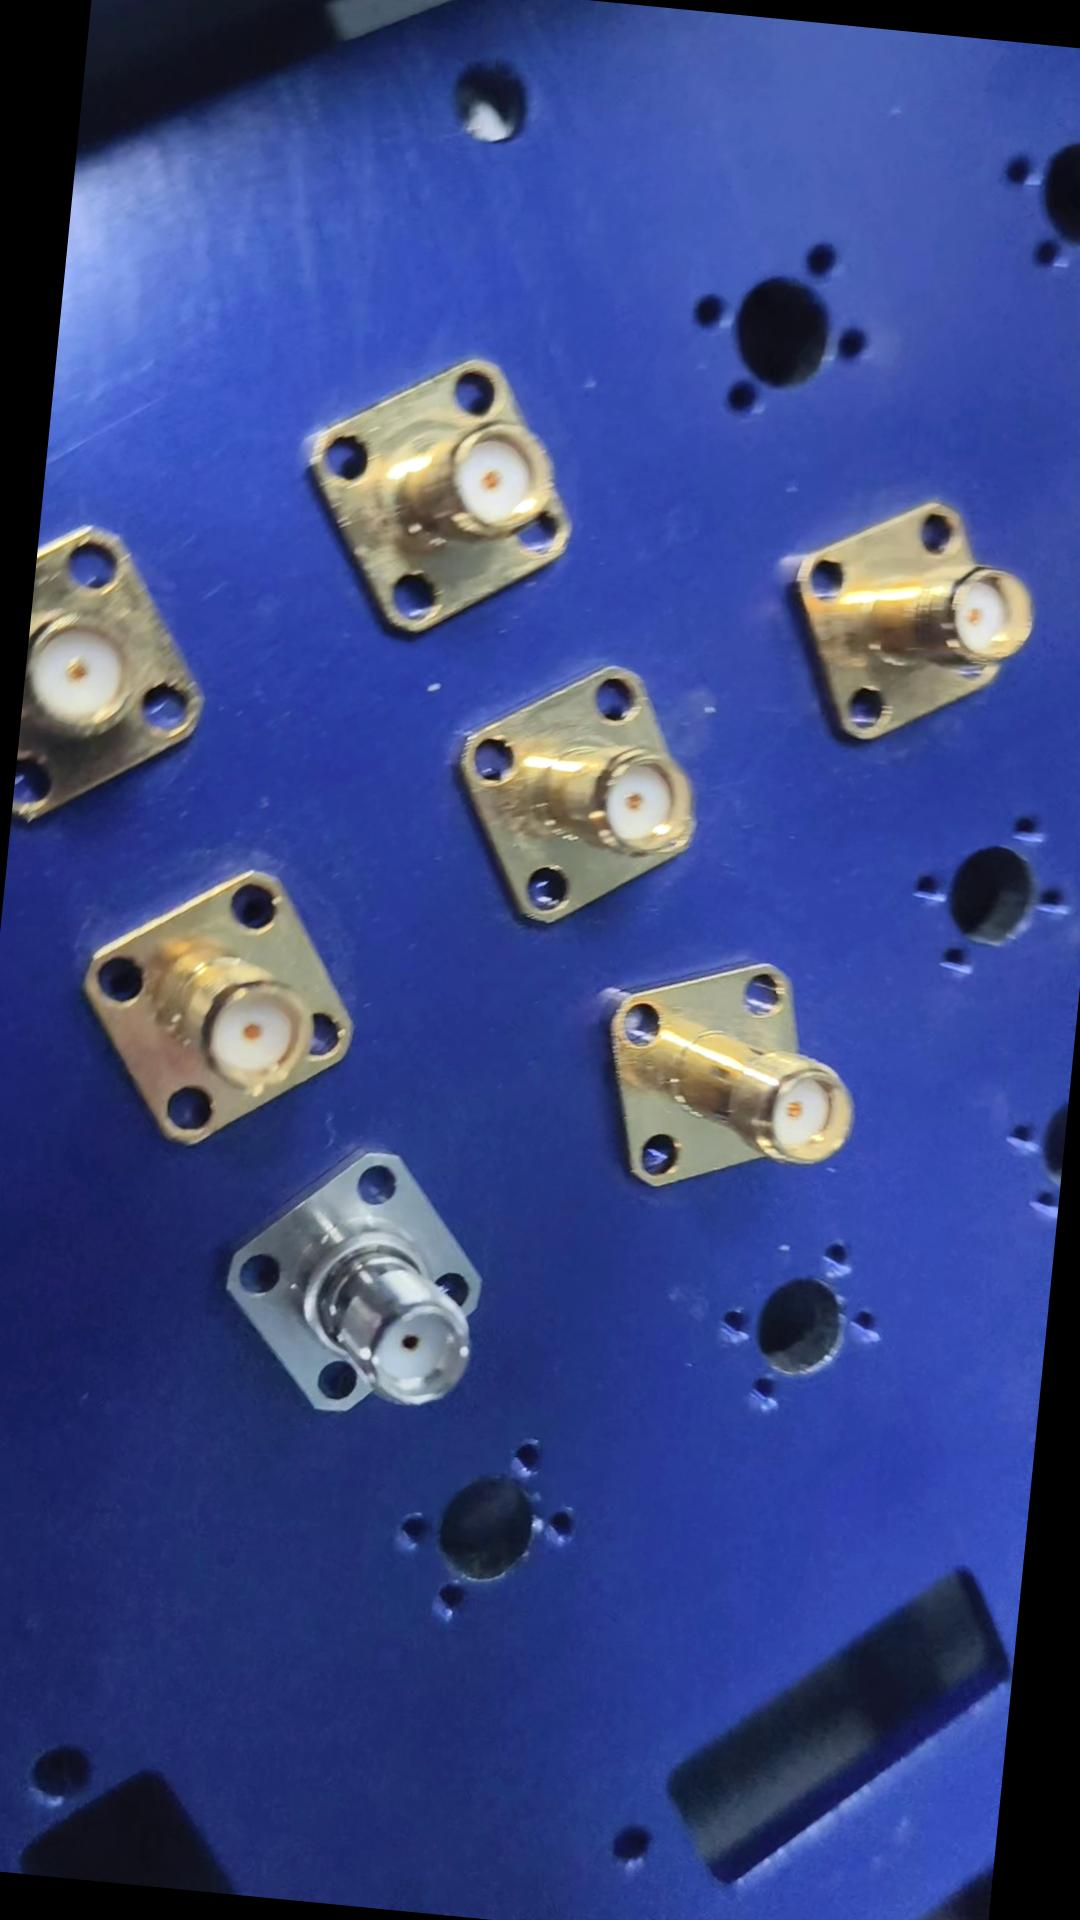SMA: (73, 840, 378, 1162), (218, 1122, 508, 1440), (302, 340, 587, 651), (456, 646, 720, 944), (773, 487, 1043, 767), (592, 949, 876, 1213)
